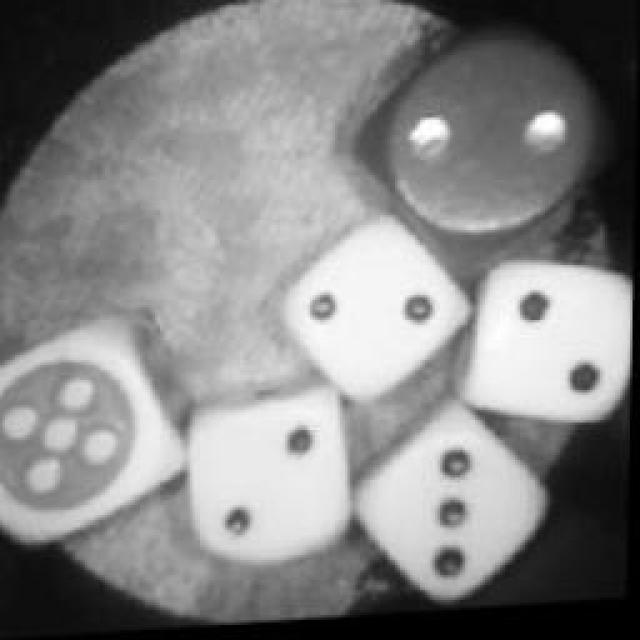dice_2: (362, 14, 616, 281), (280, 215, 472, 410), (185, 387, 363, 575), (459, 254, 636, 441)
dice_3: (333, 406, 565, 622)
dice_5: (0, 313, 192, 551)
